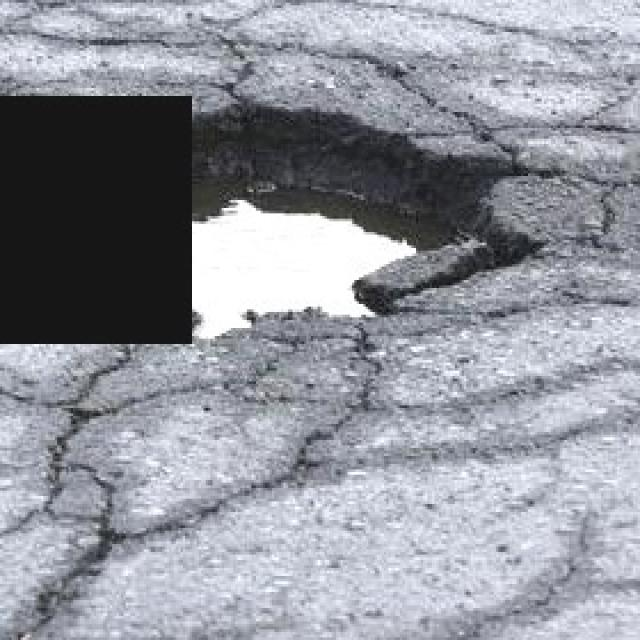road-pothole: (193, 83, 498, 342)
